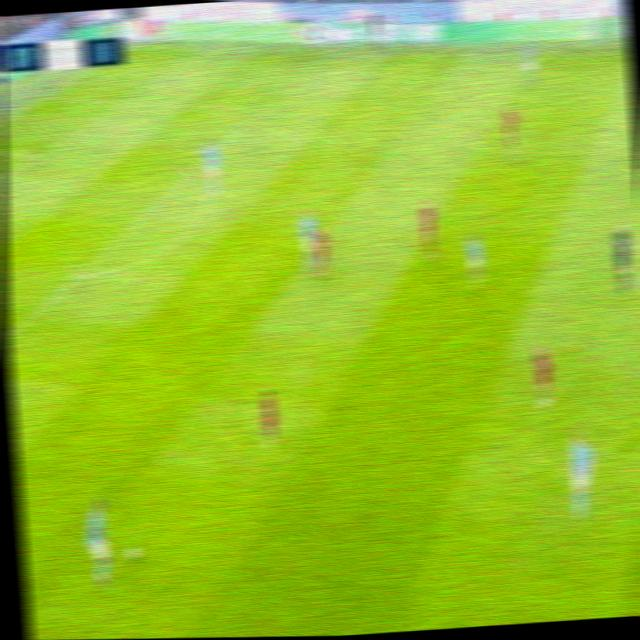bigarea_top_inner: (246, 97, 272, 128)
bigarea_top_outter: (37, 84, 60, 108)
bottom_arc_area_intersection: (66, 261, 90, 294)
corner: (119, 38, 146, 57)
smallarea_top_inner: (23, 146, 46, 170)
top_arc_area_intersection: (178, 162, 202, 187)
